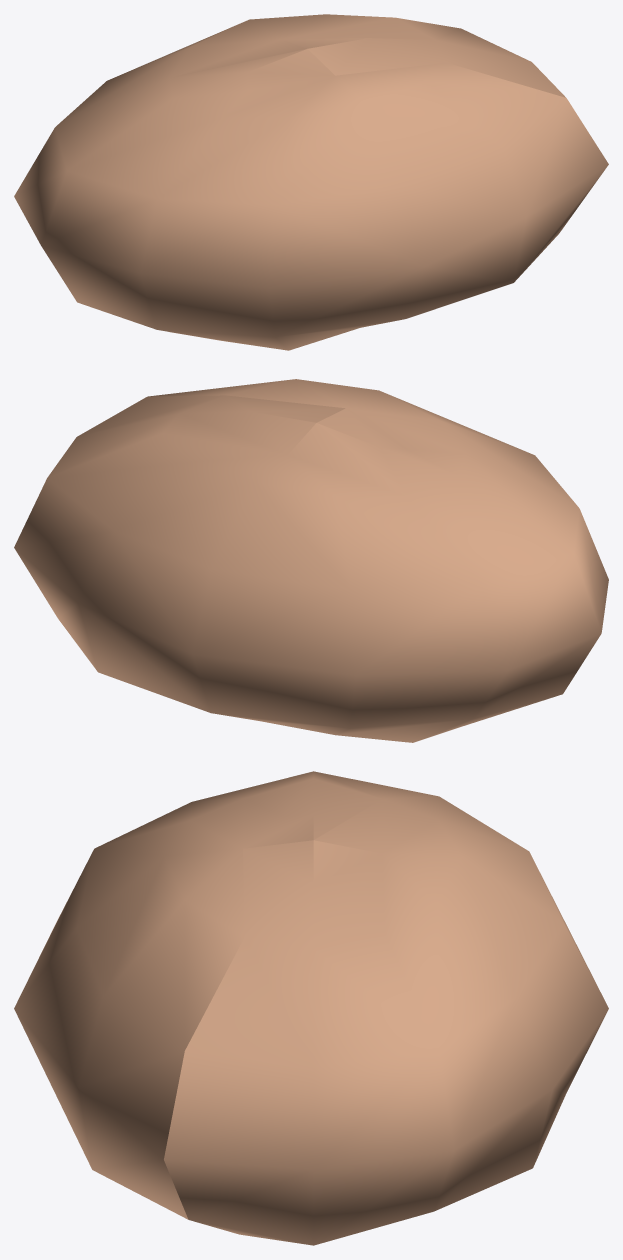
Rendered from rock_007.fbx.
3 views of the same model, one above another, from view 1: azimuth 30°, elevation 25°; view 2: azimuth 150°, elevation 25°; view 3: azimuth 270°, elevation 25° (orthographic). The views are drawn at different scales.
Parts seen in each view (by area): view 1: Rock; view 2: Rock; view 3: Rock.
Part boxes in pixels (x1,y1,x2,y2): Rock: (14,14,608,350); Rock: (14,379,608,742); Rock: (14,771,608,1245).
Size of the model in its own units: 2.64 by 1.27 by 2.03.
